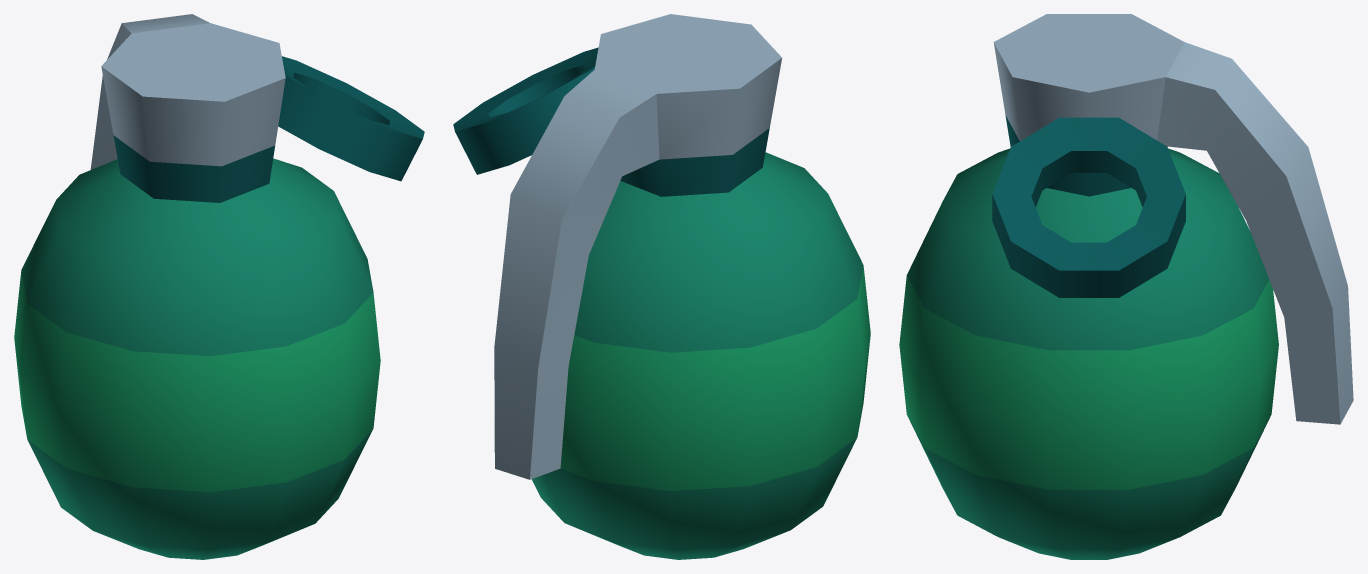
Rendered from Grenade.fbx.
3 renders of one model, left to right at view 1: azimuth 30°, elevation 25°; view 2: azimuth 150°, elevation 25°; view 3: azimuth 270°, elevation 25°, orthographic. The views are drawn at different scales.
Visible parts, largest first — view 1: Grenade; view 2: Grenade; view 3: Grenade.
Part boxes in pixels (box(x1,y1,x2,y2)): Grenade: box(14, 14, 424, 559); Grenade: box(453, 14, 870, 559); Grenade: box(899, 14, 1353, 559).
Size of the model in its own units: 253 by 312 by 263.
